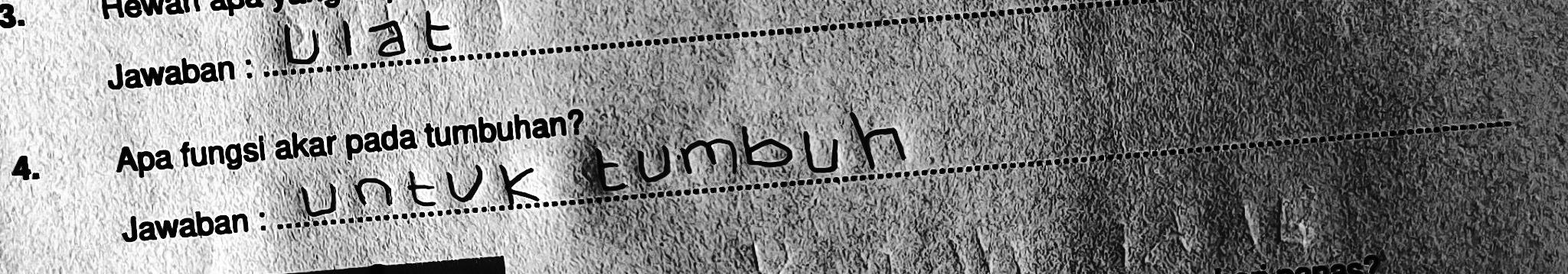jawaban: (594, 106, 908, 193), (300, 156, 541, 218), (283, 8, 454, 65)
